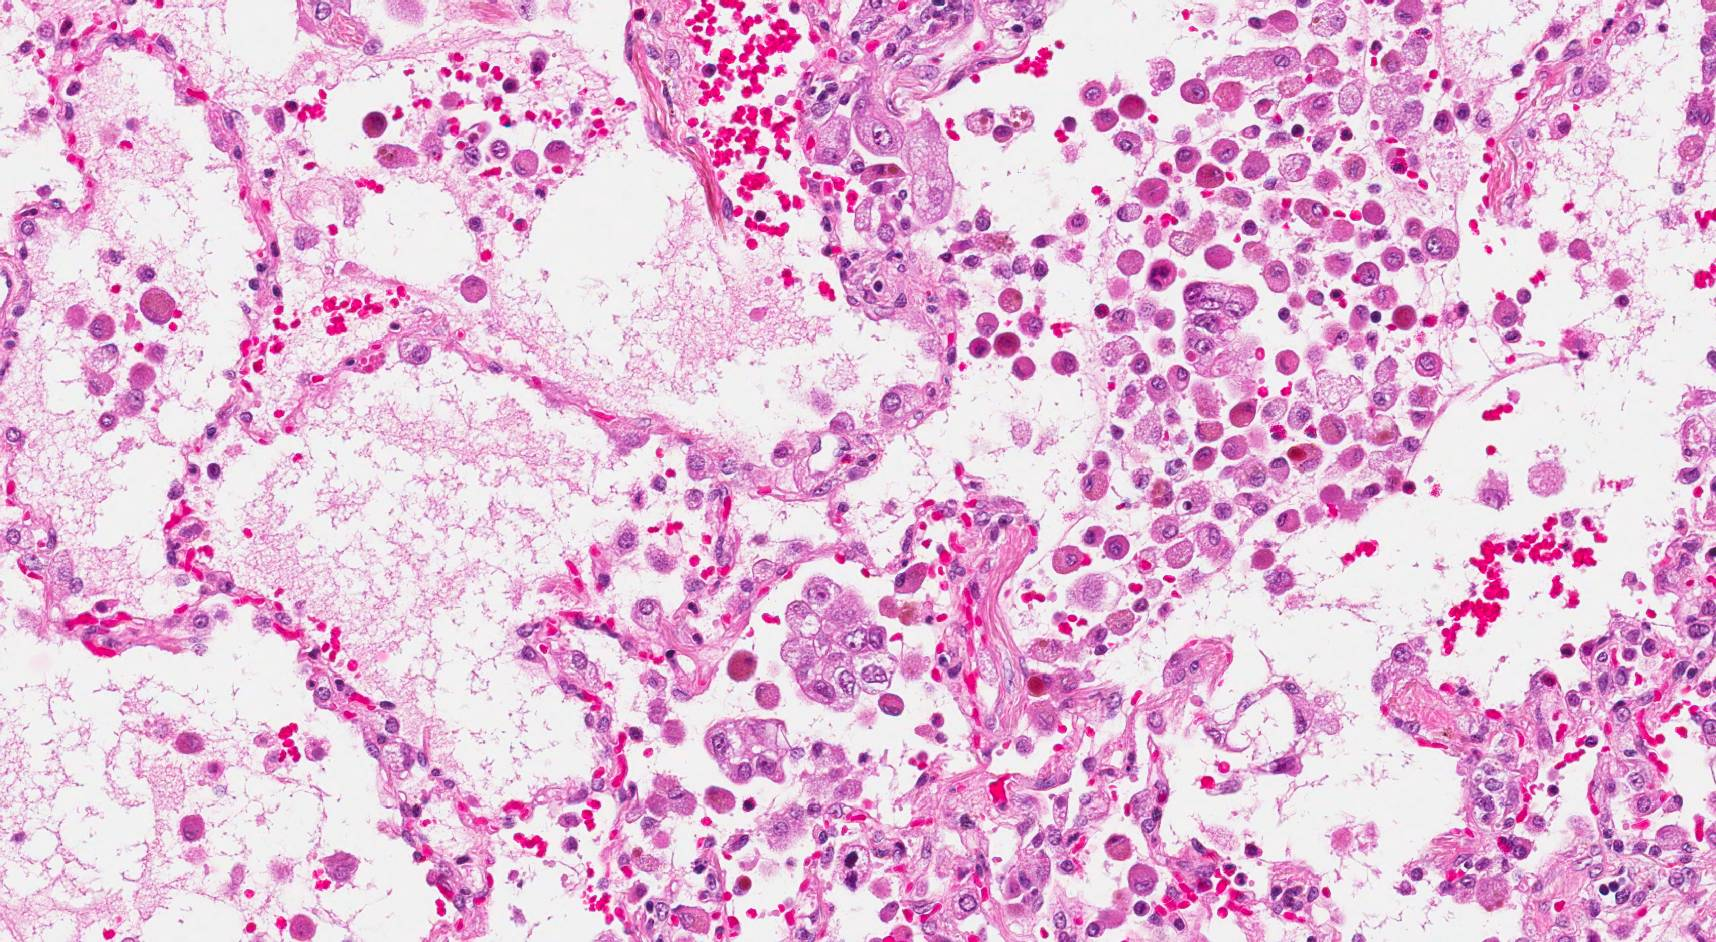stas: (778, 573, 895, 712), (1182, 281, 1261, 378), (702, 715, 803, 784)
